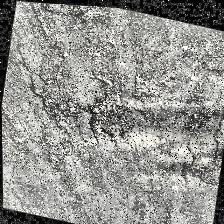pothole: (80, 80, 138, 144)
